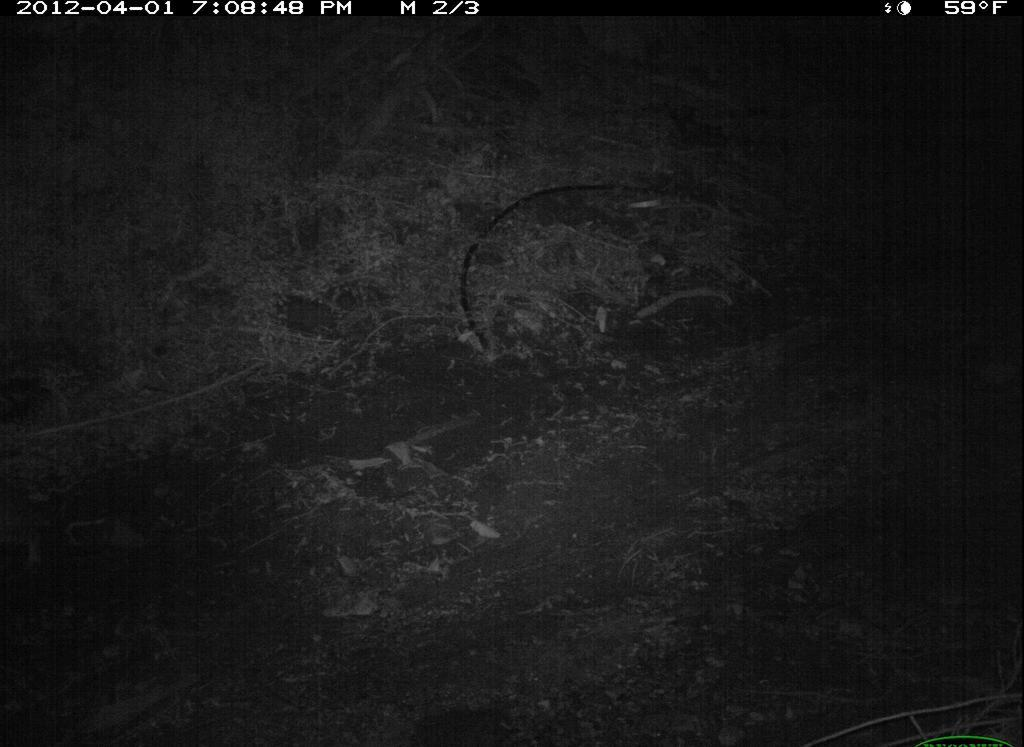cat: (1, 482, 112, 582)
